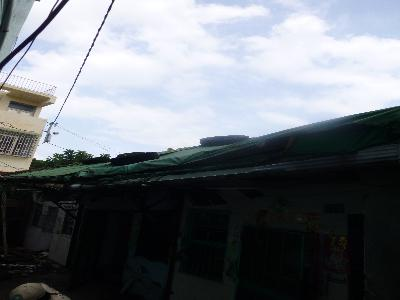tire: (200, 134, 250, 148), (111, 152, 159, 165)
